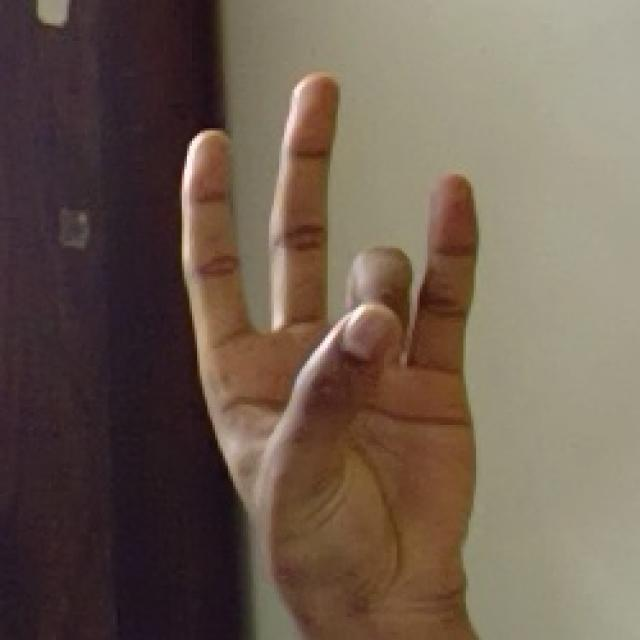Numeric-7: (170, 67, 486, 618)
